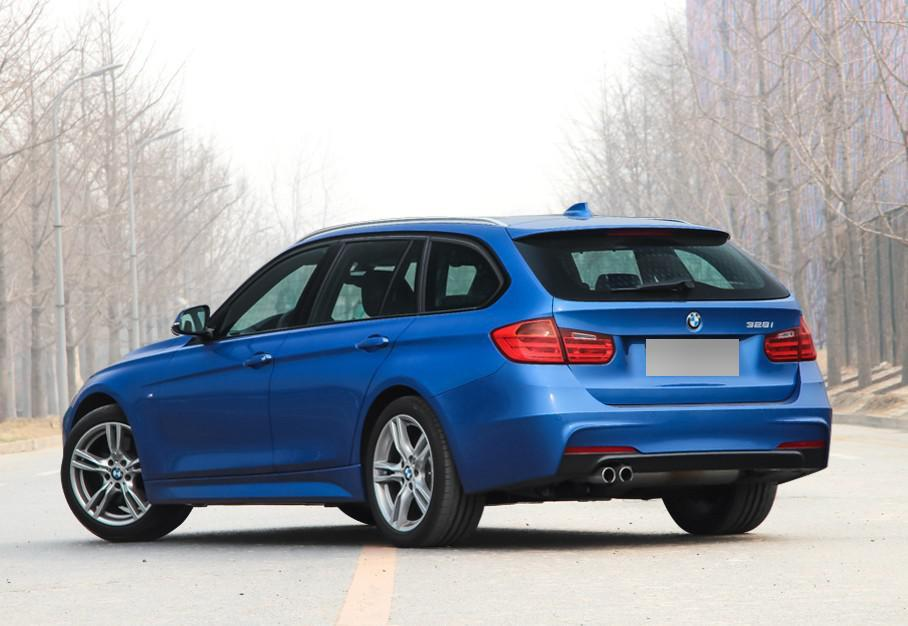Wagon: (61, 203, 831, 545)
